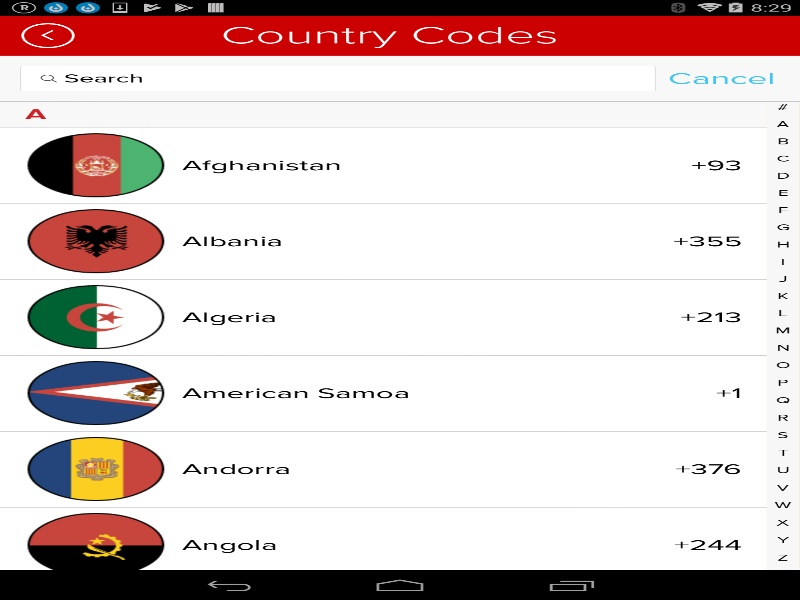Button: (662, 63, 780, 93), (21, 23, 74, 48)
Input: (40, 67, 636, 90)
